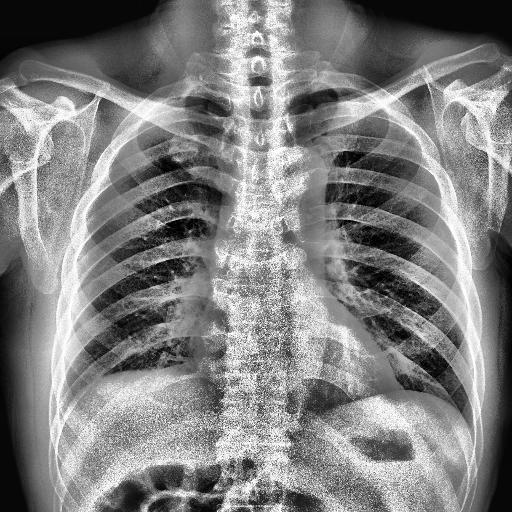0- Aortic enlargement: (263, 145, 328, 218), (266, 147, 326, 224), (262, 146, 327, 206)
